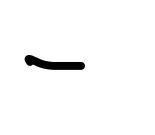minus: (24, 54, 85, 70)
